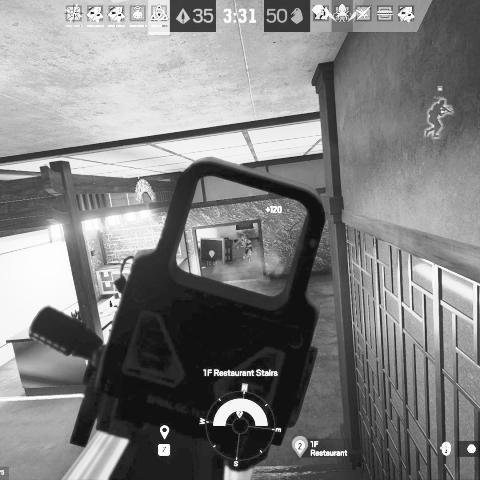Character: (242, 236, 253, 264)
Friend_label: (434, 84, 446, 100)
